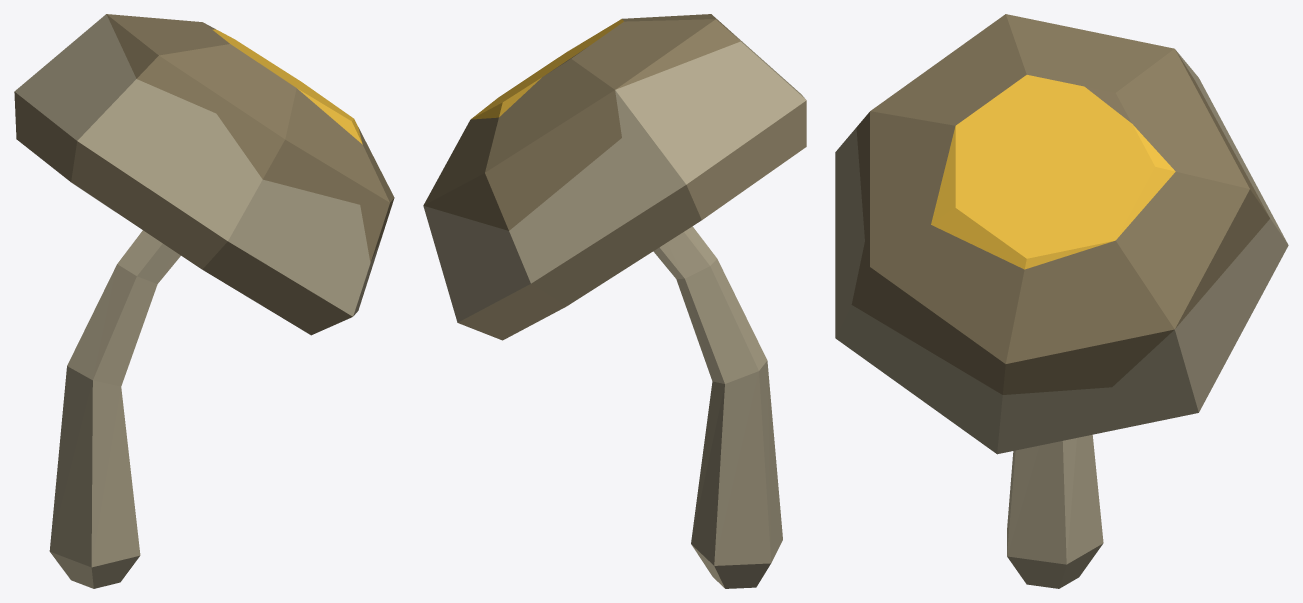
File: Mushroom_03.FBX
3 renders of one model, left to right at view 1: azimuth 30°, elevation 25°; view 2: azimuth 150°, elevation 25°; view 3: azimuth 270°, elevation 25°, orthographic. The views are drawn at different scales.
Parts seen in each view (by area): view 1: Mushroom_03; view 2: Mushroom_03; view 3: Mushroom_03.
Part boxes in pixels (x1,y1,x2,y2): Mushroom_03: (14,14,394,588); Mushroom_03: (423,14,806,588); Mushroom_03: (835,14,1288,588).
Bounding box in the file's own units: 0.748 × 1.16 × 0.8139.
